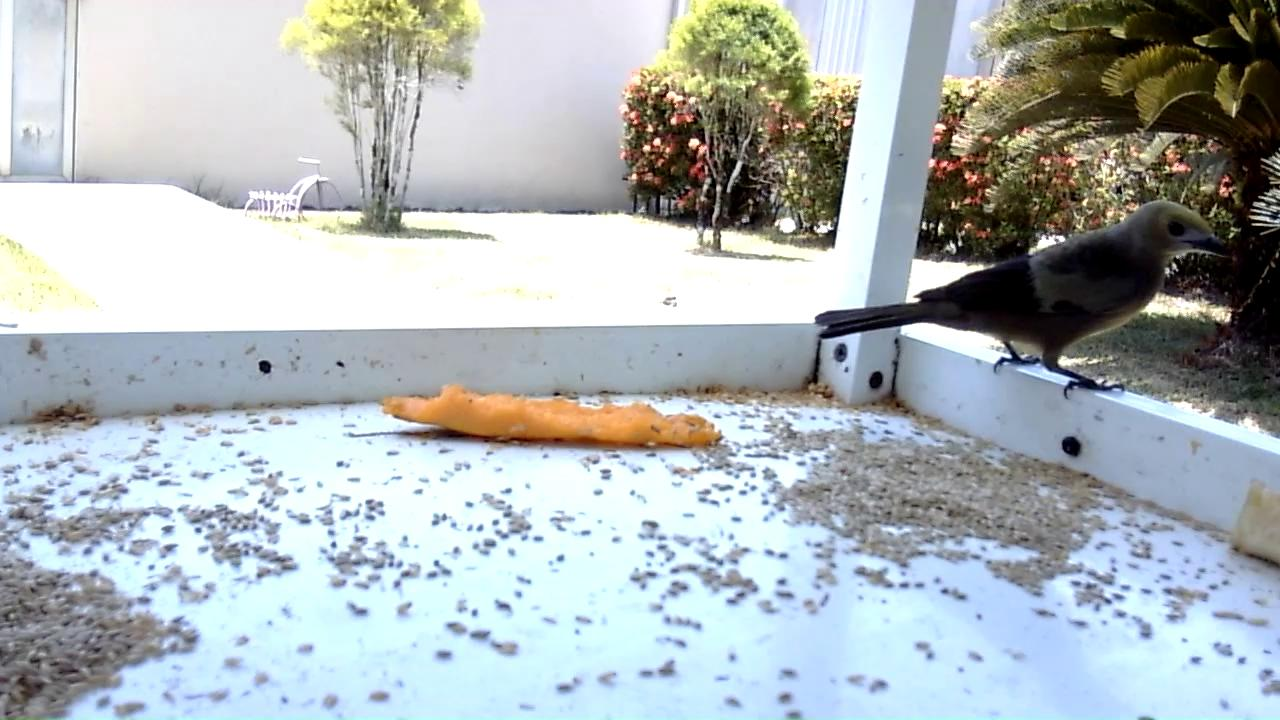sanhaco_do_coqueiro: (815, 200, 1237, 403)
